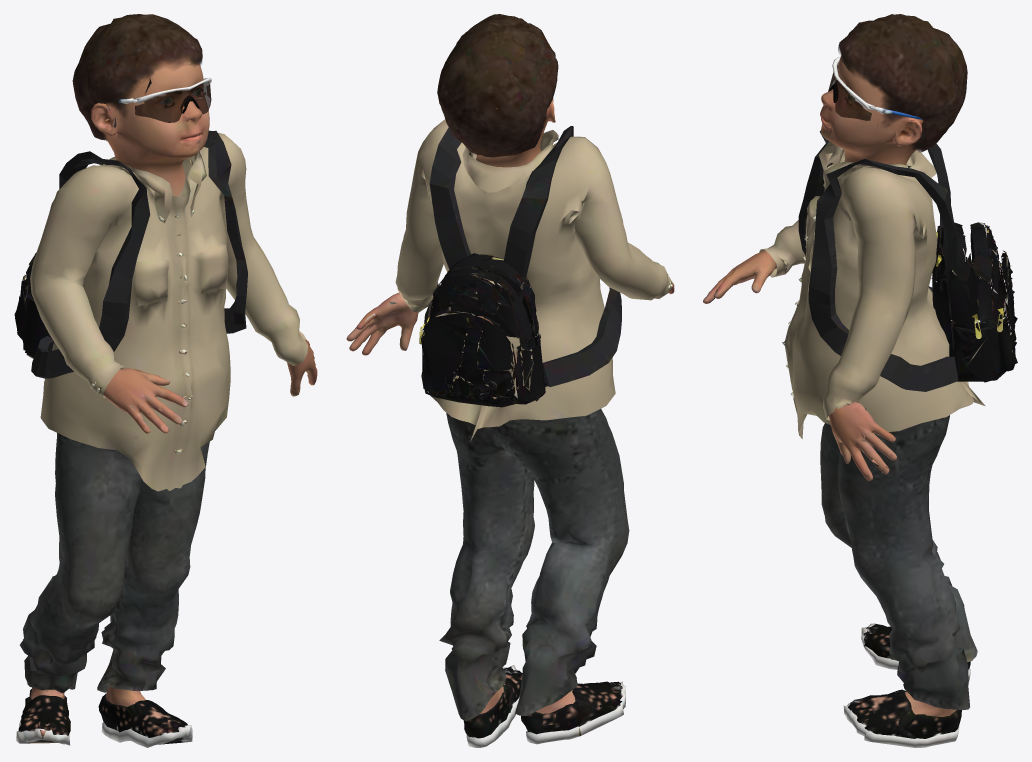
3 views of the same model, side by side, from view 1: azimuth 30°, elevation 25°; view 2: azimuth 150°, elevation 25°; view 3: azimuth 270°, elevation 25° (orthographic). The views are drawn at different scales.
Visible parts, largest first — view 1: mhbagv3_w001; view 2: mhbagv3_w001; view 3: mhbagv3_w001.
Part boxes in pixels (<box>): mhbagv3_w001: <box>14,14,317,747</box>; mhbagv3_w001: <box>346,14,674,747</box>; mhbagv3_w001: <box>703,14,1017,747</box>.
Bounding box in the file's own units: 0.4082 × 0.99 × 0.3921.
Materials: 1 (1 with a texture image).
